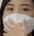with_mask: (2, 1, 34, 36)
